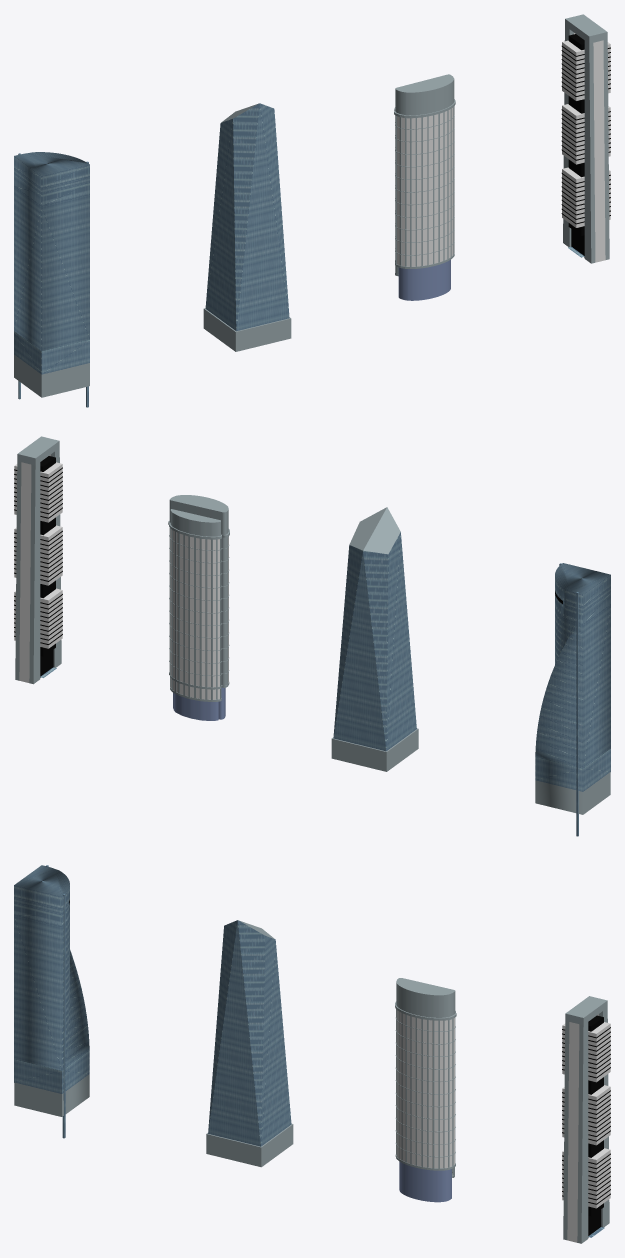
Rendered from torres.fbx.
3 renders of one model, top to bottom at view 1: azimuth 30°, elevation 25°; view 2: azimuth 150°, elevation 25°; view 3: azimuth 330°, elevation 25°, orthographic.
Visible parts, largest first — view 1: Torre4, Torre3, Torre2, Torre1; view 2: Torre3, Torre4, Torre2, Torre1; view 3: Torre3, Torre4, Torre2, Torre1.
Boxes of the visible parts, x1,y1,x2,y2 form: Torre4: [14, 152, 89, 407]; Torre3: [203, 103, 584, 351]; Torre2: [394, 74, 455, 300]; Torre1: [561, 14, 610, 263]; Torre3: [40, 507, 418, 771]; Torre4: [535, 563, 610, 836]; Torre2: [168, 495, 229, 720]; Torre1: [14, 436, 62, 684]; Torre3: [206, 920, 604, 1237]; Torre4: [14, 865, 89, 1138]; Torre2: [395, 978, 456, 1202]; Torre1: [562, 996, 610, 1243].
Bounding box in the file's own units: 5751 × 2479 × 554.
Materials: 9 (2 with a texture image).
